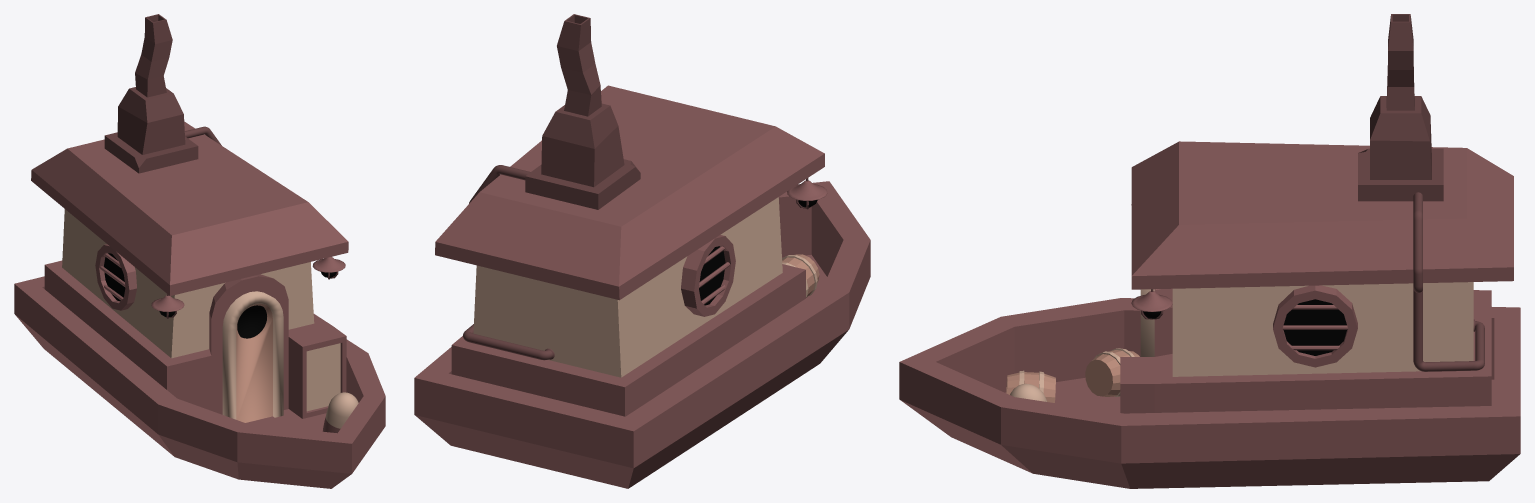
Rendered from boat3.fbx.
3 views of the same model, side by side, from view 1: azimuth 30°, elevation 25°; view 2: azimuth 150°, elevation 25°; view 3: azimuth 270°, elevation 25° (orthographic). The views are drawn at different scales.
Parts seen in each view (by area): view 1: House; view 2: House; view 3: House.
Part boxes in pixels (x1,y1,x2,y2): House: (14,14,385,488); House: (414,14,870,488); House: (899,14,1520,488).
Bounding box in the file's own units: 812 × 1664 × 1247.
